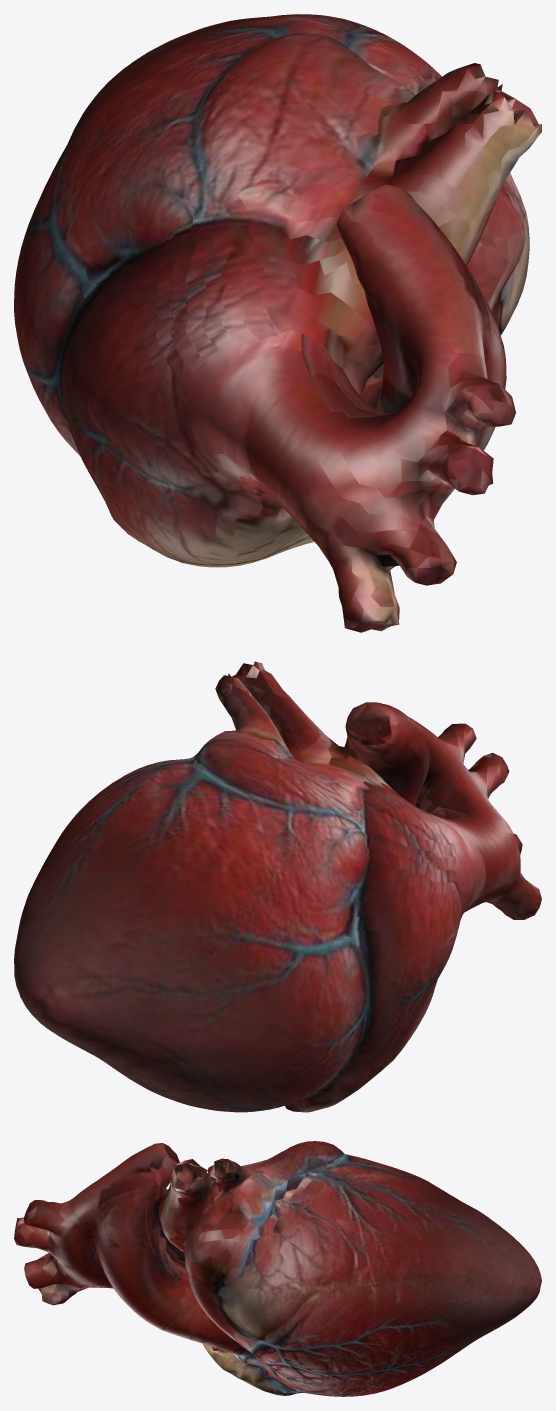
File: human-heart1.glb
3 views of the same model, one above another, from view 1: azimuth 30°, elevation 25°; view 2: azimuth 150°, elevation 25°; view 3: azimuth 270°, elevation 25° (orthographic). The views are drawn at different scales.
Visible parts, largest first — view 1: Heart; view 2: Heart; view 3: Heart.
Boxes of the visible parts, x1=… form: Heart: x1=14, y1=14, x2=541, y2=632; Heart: x1=14, y1=661, x2=541, y2=1112; Heart: x1=14, y1=1141, x2=541, y2=1396.
Size of the model in its own units: 0.043 by 0.0456 by 0.0805.
1 material, 1 textured.
